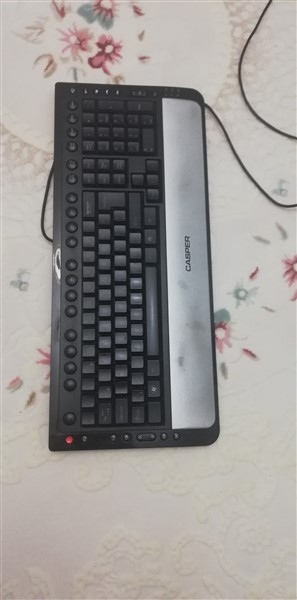klavye: (44, 74, 223, 448)
